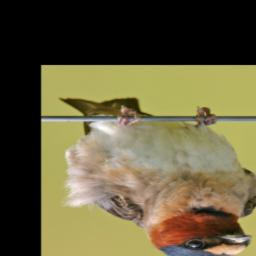Swallow: (58, 96, 256, 256)
